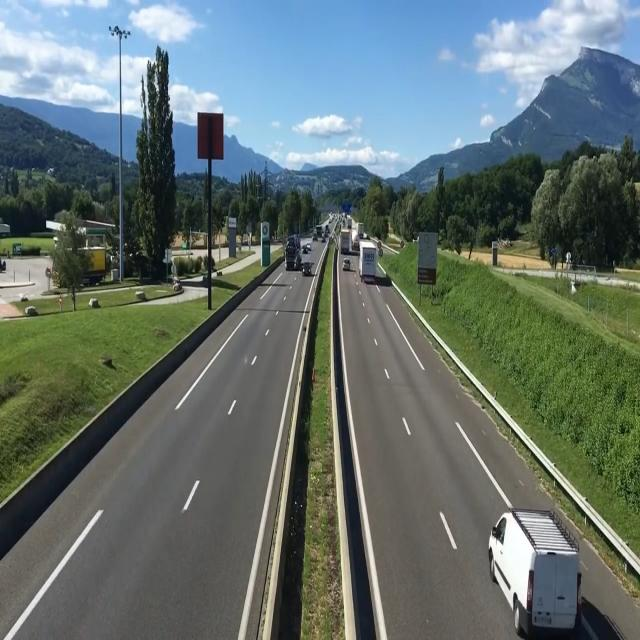car: (485, 508, 585, 638), (302, 262, 312, 278), (342, 257, 352, 273)
truck: (358, 235, 382, 287), (284, 227, 301, 271)
